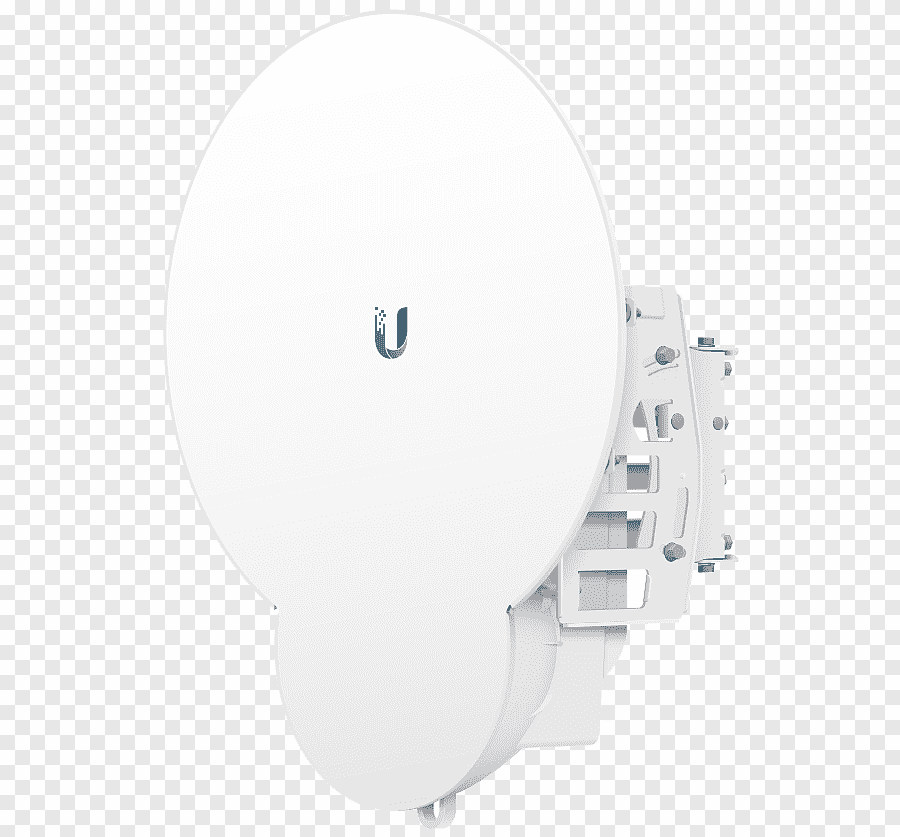ba: (119, 11, 750, 817)
